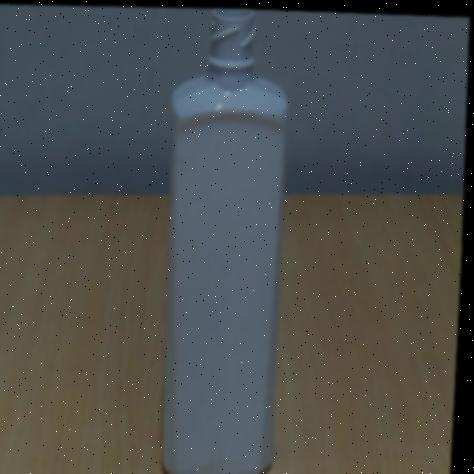bottle: (162, 8, 287, 474)
